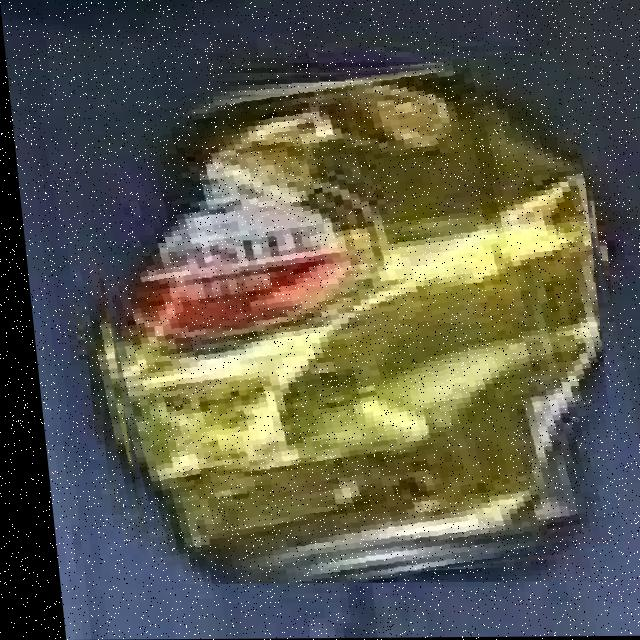can: (103, 65, 584, 584)
